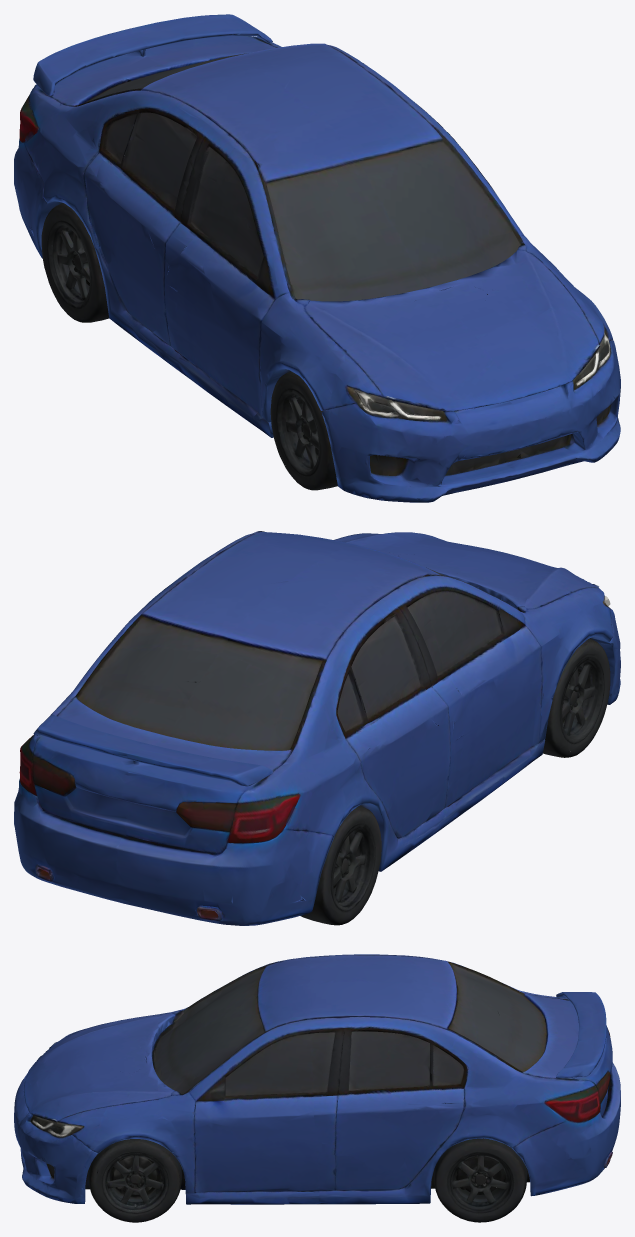
File: comet.glb
3 renders of one model, top to bottom at view 1: azimuth 30°, elevation 25°; view 2: azimuth 150°, elevation 25°; view 3: azimuth 270°, elevation 25°, orthographic. The views are drawn at different scales.
Visible parts, largest first — view 1: tripo_node_4cc463ec-78e7-4830-afd0-76881c530874; view 2: tripo_node_4cc463ec-78e7-4830-afd0-76881c530874; view 3: tripo_node_4cc463ec-78e7-4830-afd0-76881c530874.
Boxes of the visible parts, box(x1,y1,x2,y2) form: tripo_node_4cc463ec-78e7-4830-afd0-76881c530874: box(14, 14, 620, 502); tripo_node_4cc463ec-78e7-4830-afd0-76881c530874: box(14, 531, 620, 925); tripo_node_4cc463ec-78e7-4830-afd0-76881c530874: box(14, 954, 620, 1222).
Size of the model in its own units: 0.4079 by 0.3397 by 0.9802.
1 material, 1 textured.
